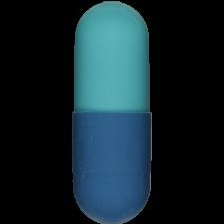63629-2756: (0, 0, 224, 224)
